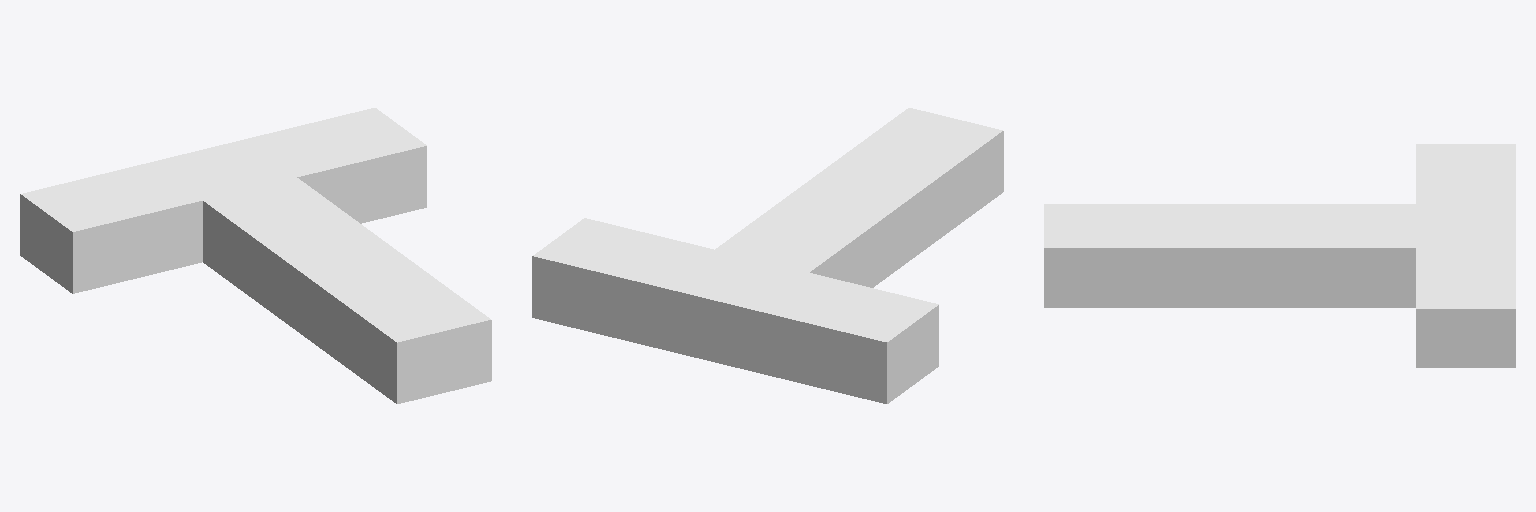
robot.urdf — letter_t:
<robot name="letter_t">
    <link name="base_link">
        <visual>
            <origin xyz="0.0 -0.00016586781843713064 0.0" rpy="0.0 0.0 0.0" />
            <geometry>
                <mesh filename="letter_t/textured.obj" scale="1 1 1" />
            </geometry>
            <material name="texture">
                <color rgba="1.0 1.0 1.0 1.0" />
            </material>
        </visual>
        <collision>
            <origin xyz="0.0 -0.00016586781843713064 0.0" rpy="0.0 0.0 0.0" />
            <geometry>
                <mesh filename="letter_t/textured_vhacd.stl" scale="1 1 1" />
            </geometry>
        </collision>
        <inertial>
            <mass value="0.1" />
            <inertia ixx="1e-3" ixy="0.0" ixz="0.0" iyy="1e-3" iyz="0.0" izz="1e-3" />
        </inertial>
    </link>
</robot>

--- Render facts (derived) ---
3 views of the same robot in one strip: view 1: azimuth 30°, elevation 25°; view 2: azimuth 150°, elevation 25°; view 3: azimuth 270°, elevation 25° (orthographic).
Robot: letter_t — 1 links, 0 joints (none); root link base_link; default pose: all joints at 0.
Visible links, largest first — view 1: base_link; view 2: base_link; view 3: base_link.
Link boxes in pixels (x1,y1,x2,y2): base_link: (20,108,491,403); base_link: (532,108,1003,403); base_link: (1044,144,1515,367).
Bounding box of the posed robot: 0.12 × 0.1444 × 0.02 m (x, y, z).
1 mesh visuals loaded from 1 distinct referenced files (1 OBJ).
